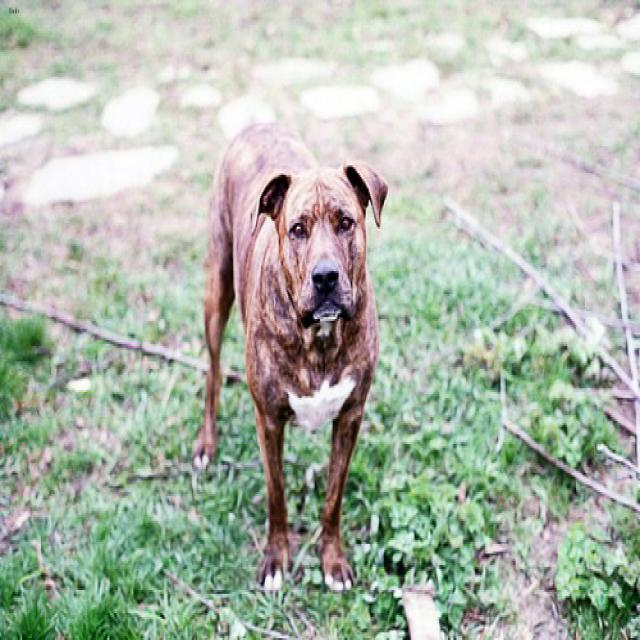dog-american_pit_bull_terrier: (187, 111, 392, 603)
